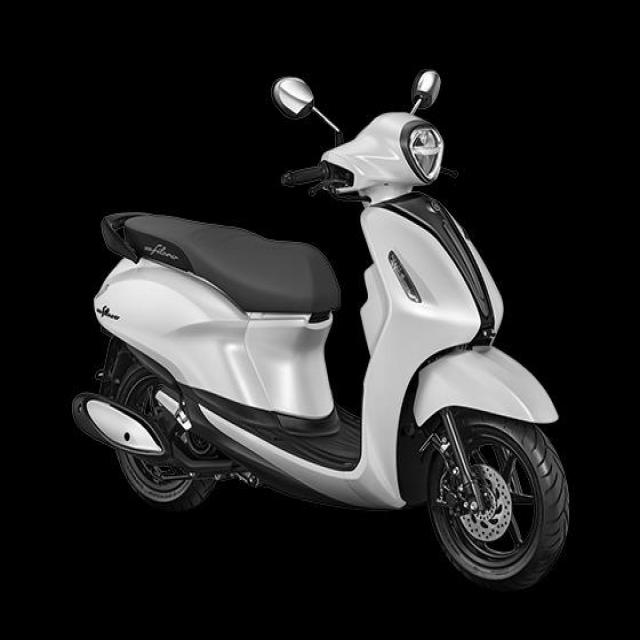Motorcycle: (72, 112, 570, 592)
